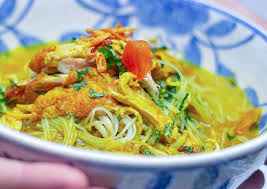soto: (1, 11, 267, 175)
